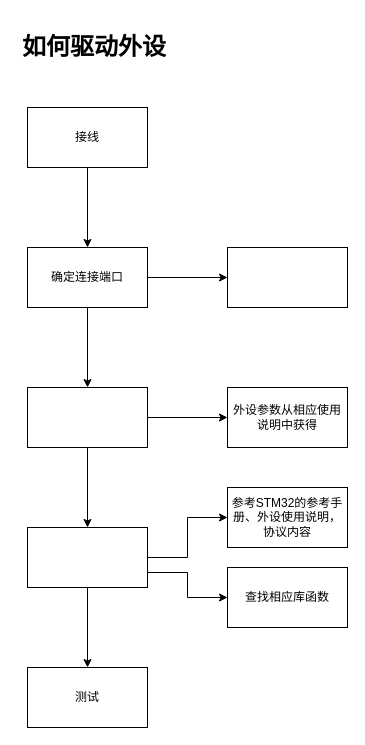
Some shapes in this 365 by 745 pixel diagram are drawn without their labels. The centre of each missing label's shape, as x and y in pixels:
"从开发板原理图、位号图中获得" belongs at point 287,277.
"完成代码" belongs at point 87,557.
"配置工程" belongs at point 87,417.
